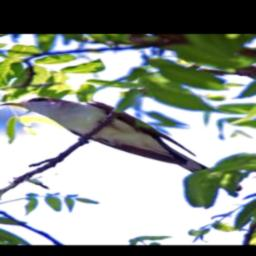Cuckoo: (0, 96, 244, 192)
